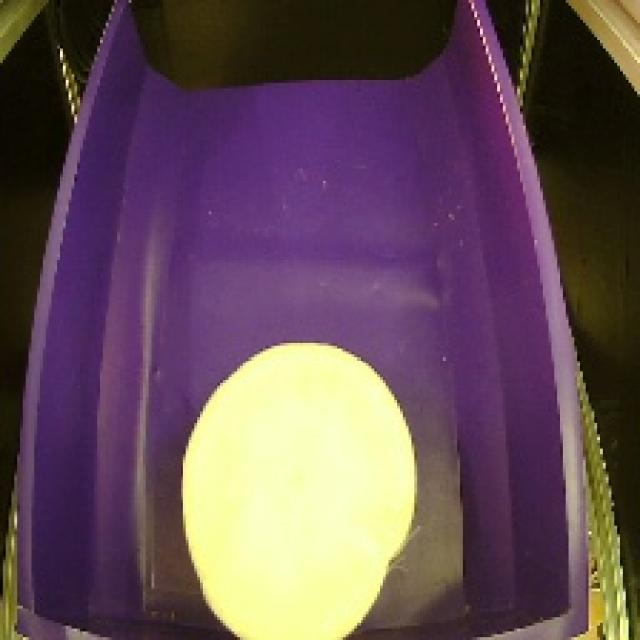white_radish: (160, 328, 428, 640)
